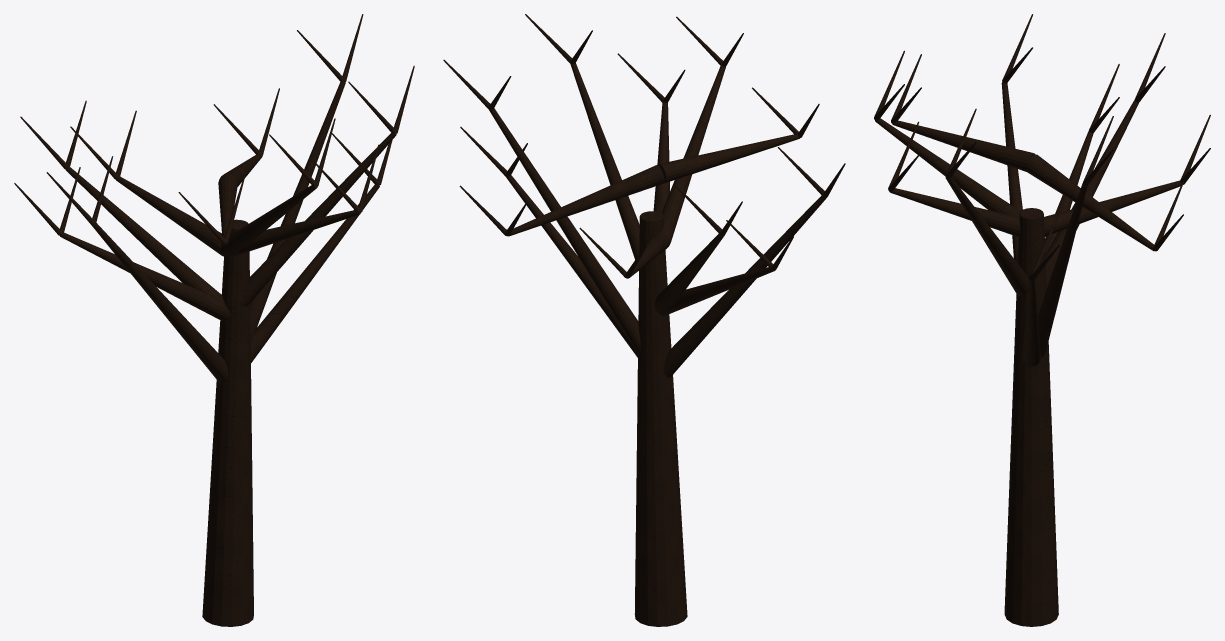
File: PROP-A8AC198588A0_lod0.glb
3 views of the same model, side by side, from view 1: azimuth 30°, elevation 25°; view 2: azimuth 150°, elevation 25°; view 3: azimuth 270°, elevation 25° (orthographic). The views are drawn at different scales.
Parts seen in each view (by area): view 1: branch.006, trunk.018, bare_twigs; view 2: branch.006, trunk.018, bare_twigs; view 3: branch.006, trunk.018, bare_twigs.
Part boxes in pixels (<box>): branch.006: <box>60,81,396,383</box>; trunk.018: <box>202,219,253,626</box>; bare_twigs: <box>14,14,414,244</box>; branch.006: <box>489,63,826,377</box>; trunk.018: <box>634,211,687,626</box>; bare_twigs: <box>443,14,845,278</box>; branch.006: <box>875,82,1181,366</box>; trunk.018: <box>1004,208,1058,626</box>; bare_twigs: <box>874,14,1210,281</box>.
Bounding box in the file's own units: 3.87 × 5.4 × 2.97.
1 material, 1 textured.
